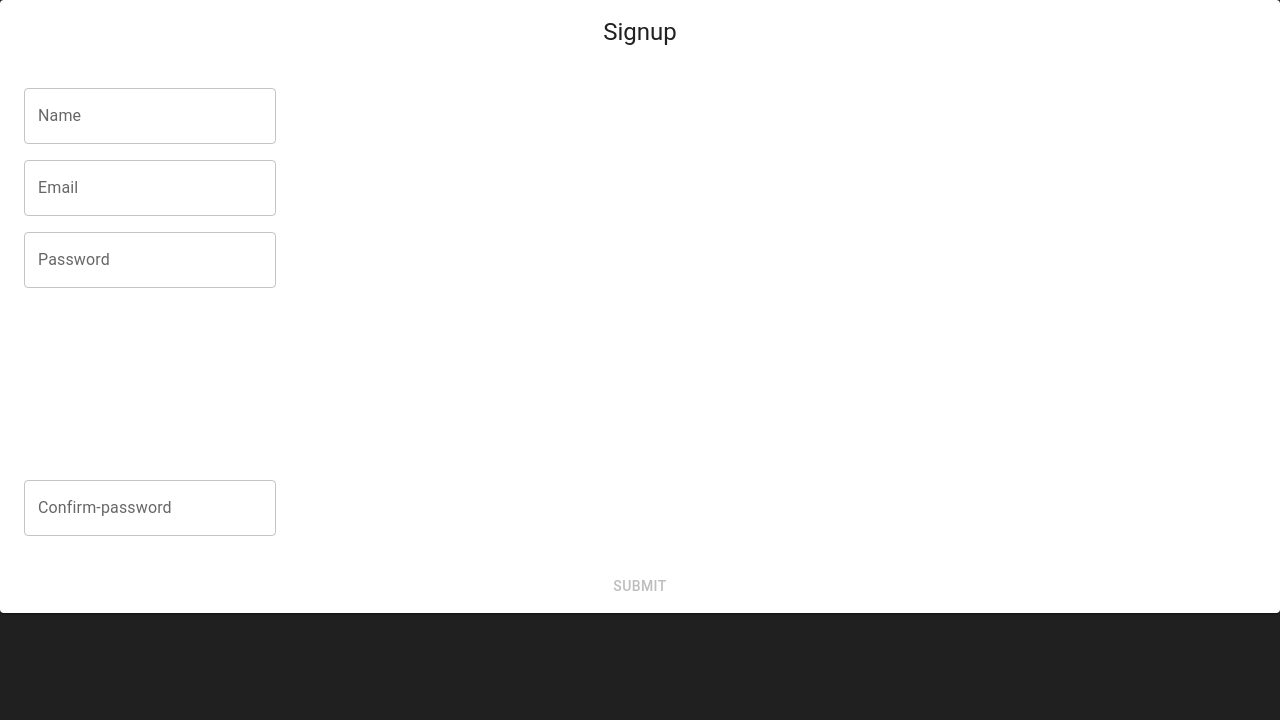
Test case: should be able to type in email field
Step 1. Click the field labelled "Email" → x=150, y=188, box [24, 160, 276, 216]
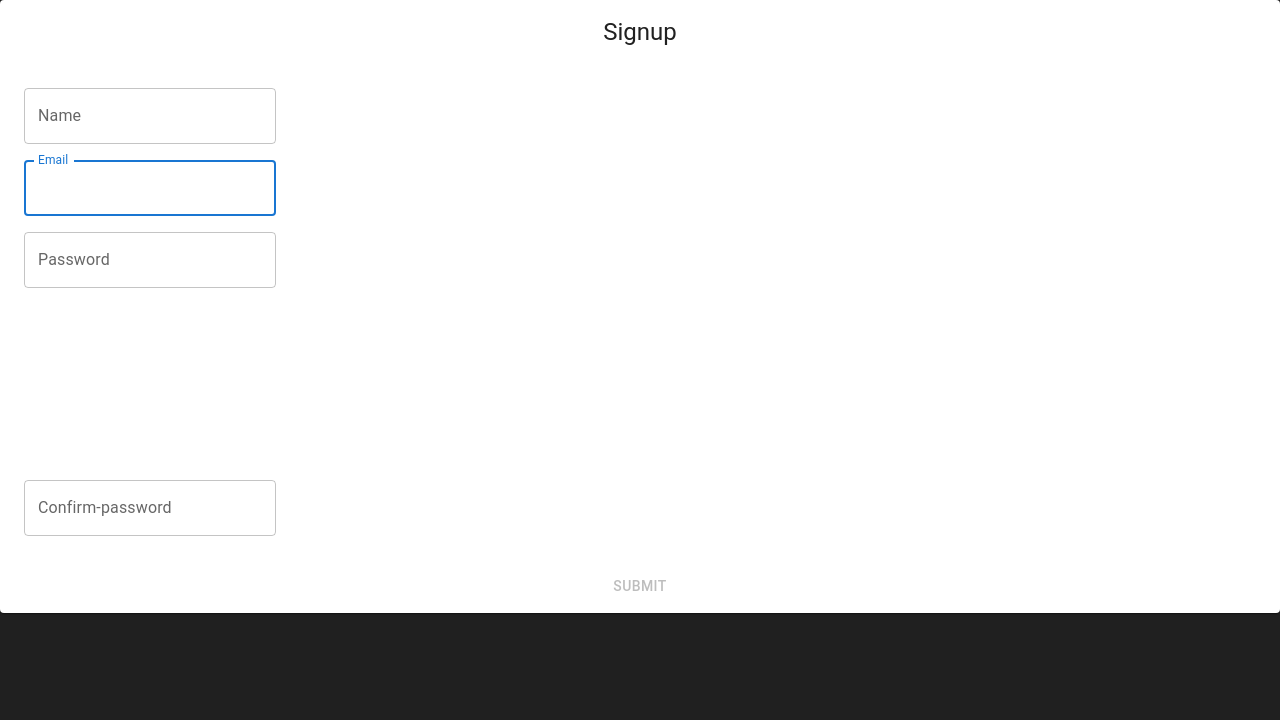
Step 2. Type keys "email@email.com"
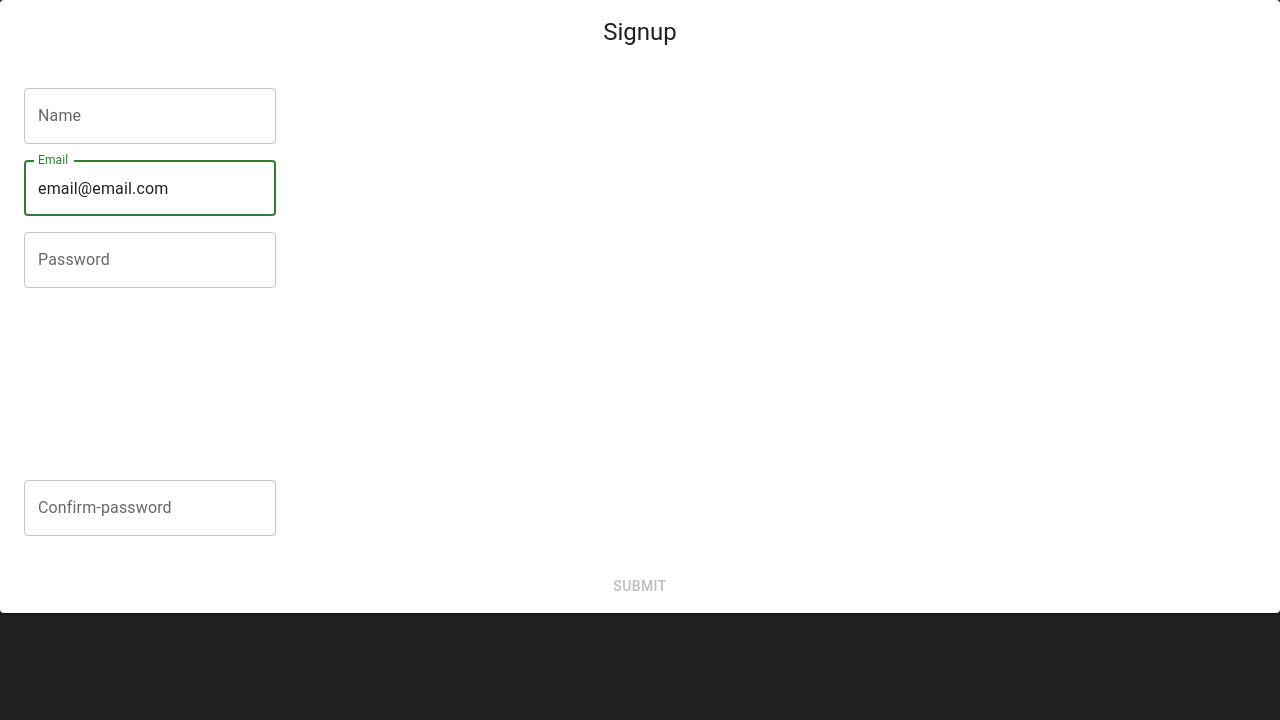
Expected: the field labelled "Email" holds "email@email.com", [24, 160, 276, 216]
